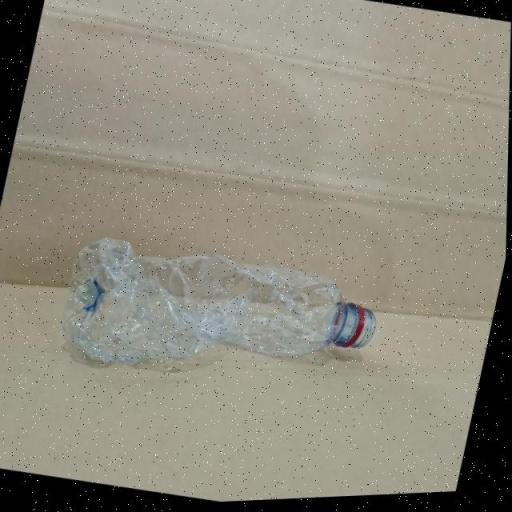plastic: (59, 217, 392, 413)
